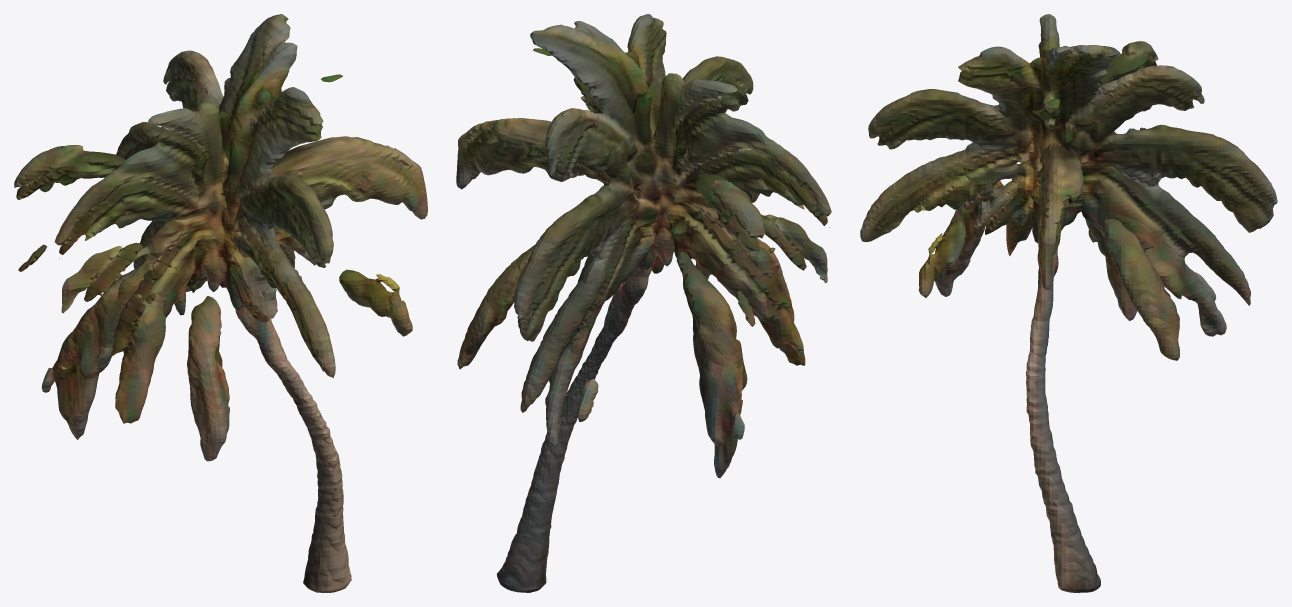
The model's file is palm-generated-v1.glb.
The picture shows the model from 3 angles, left to right: view 1: azimuth 30°, elevation 25°; view 2: azimuth 150°, elevation 25°; view 3: azimuth 270°, elevation 25°; orthographic projection. The views are drawn at different scales.
Parts seen in each view (by area): view 1: world; view 2: world; view 3: world.
Boxes of the visible parts, x1,y1,x2,y2 form: world: (14,14,427,592); world: (456,14,831,592); world: (860,14,1277,592).
Bounding box in the file's own units: 0.6797 × 0.9954 × 0.7146.
1 material, 1 textured.
